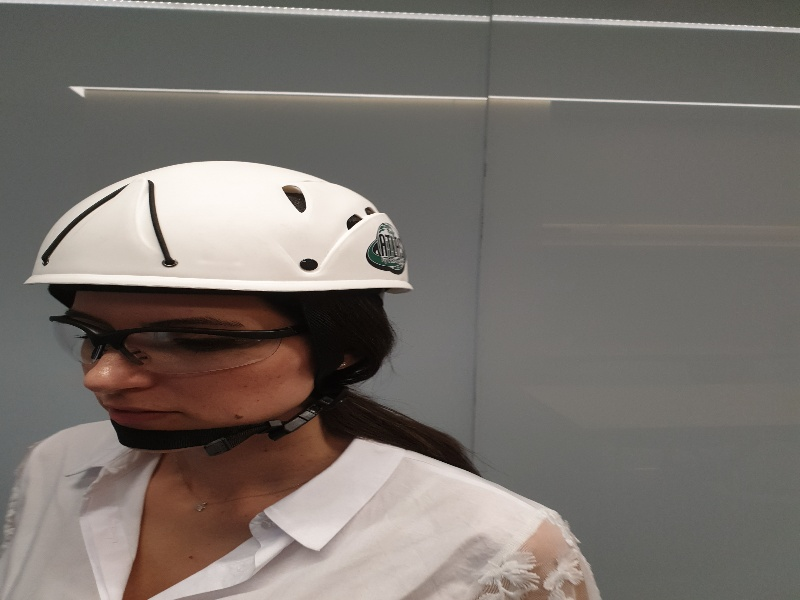Baret: (23, 161, 414, 299)
Gozluk: (50, 314, 333, 371)
